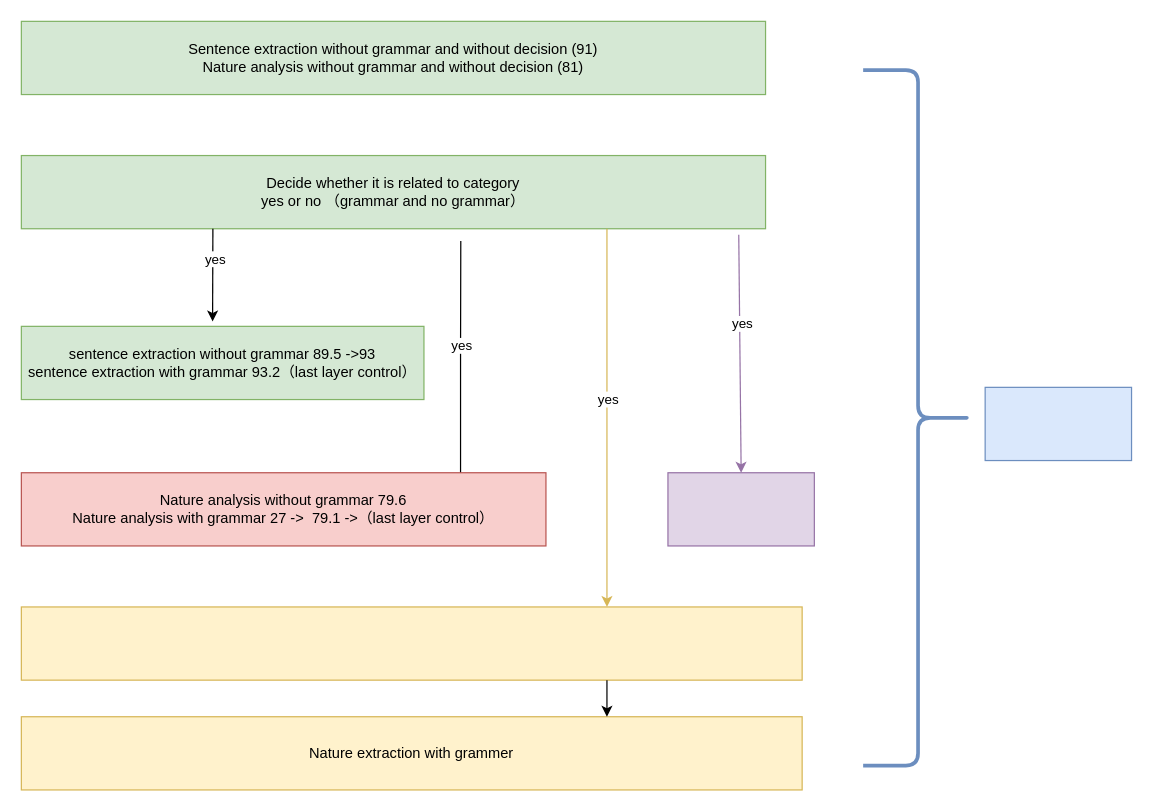
Image size: 1153x811. Some labels were removed from this diagram. Each missing label, with the box of its shape:
Nature analysis without grammer: (20, 606, 802, 680)
Other way: function calling built in mistral to get the nature: (667, 472, 814, 546)
Vector DB to enhance every API request （RAG）: (984, 386, 1132, 461)
